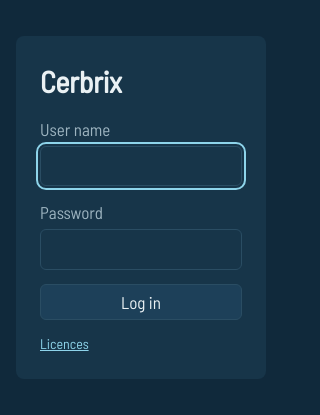
Test case: LoginPage › shows the server's message for another failure
Type "anna" into the field labelled "User name" at {"x": 141, "y": 166}, box [40,146,242,186]
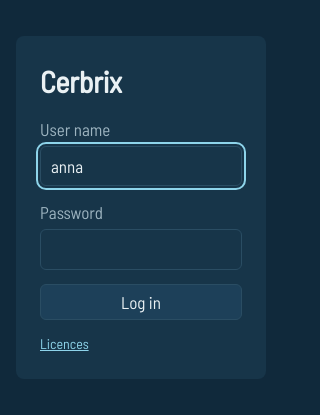
Type "secret-password" into the password field labelled "Password" at {"x": 141, "y": 249}, box [40,229,242,270]
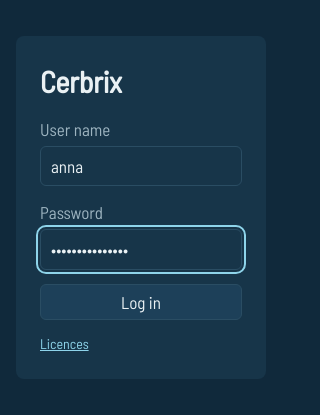
Click the button "Log in" at {"x": 141, "y": 302}, box [40,284,242,320]
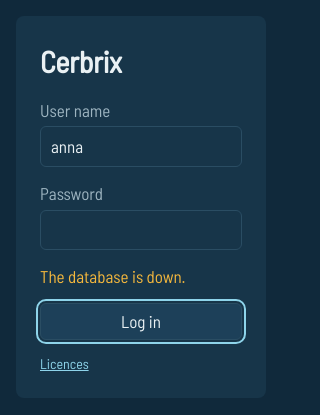
Now the text "The database is down." is shown, box [40,266,185,286]
